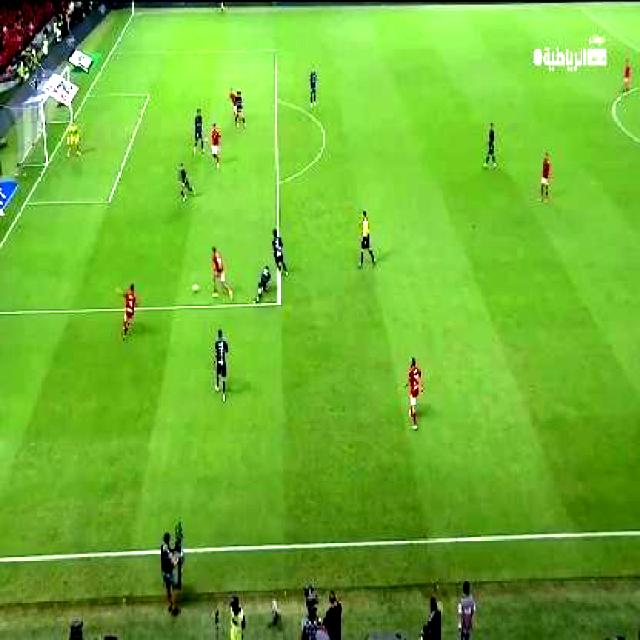bigarea_bottom_inner: (268, 292, 288, 312)
bigarea_top_inner: (271, 45, 278, 57)
bigarea_top_outter: (83, 91, 92, 100)
bottom_arc_area_intersection: (274, 175, 284, 191)
corner: (128, 11, 140, 18)
midline_top_intersection: (572, 2, 596, 15)
smallarea_bottom_inner: (101, 192, 114, 210)
smallarea_bottom_outter: (18, 196, 30, 210)
smallarea_top_inner: (143, 89, 152, 100)
top_arc_area_intersection: (272, 94, 283, 108)
